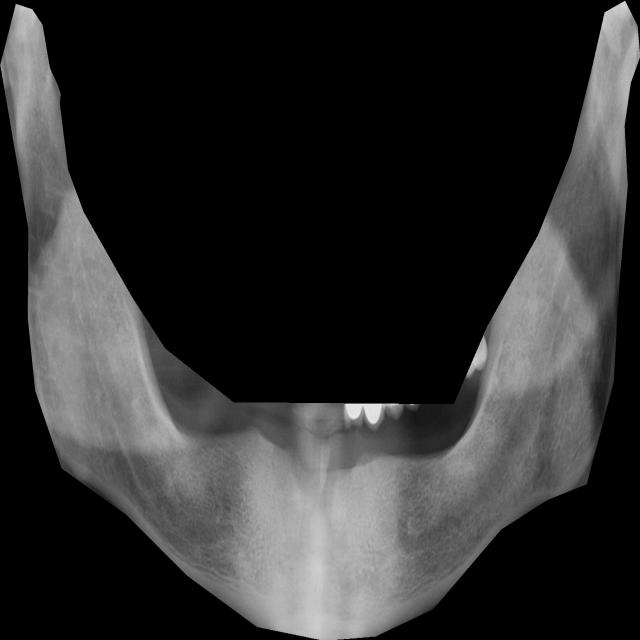mandibula: (0, 1, 640, 640)
